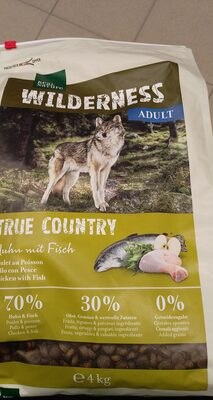wilderness adult: (11, 20, 202, 380)
